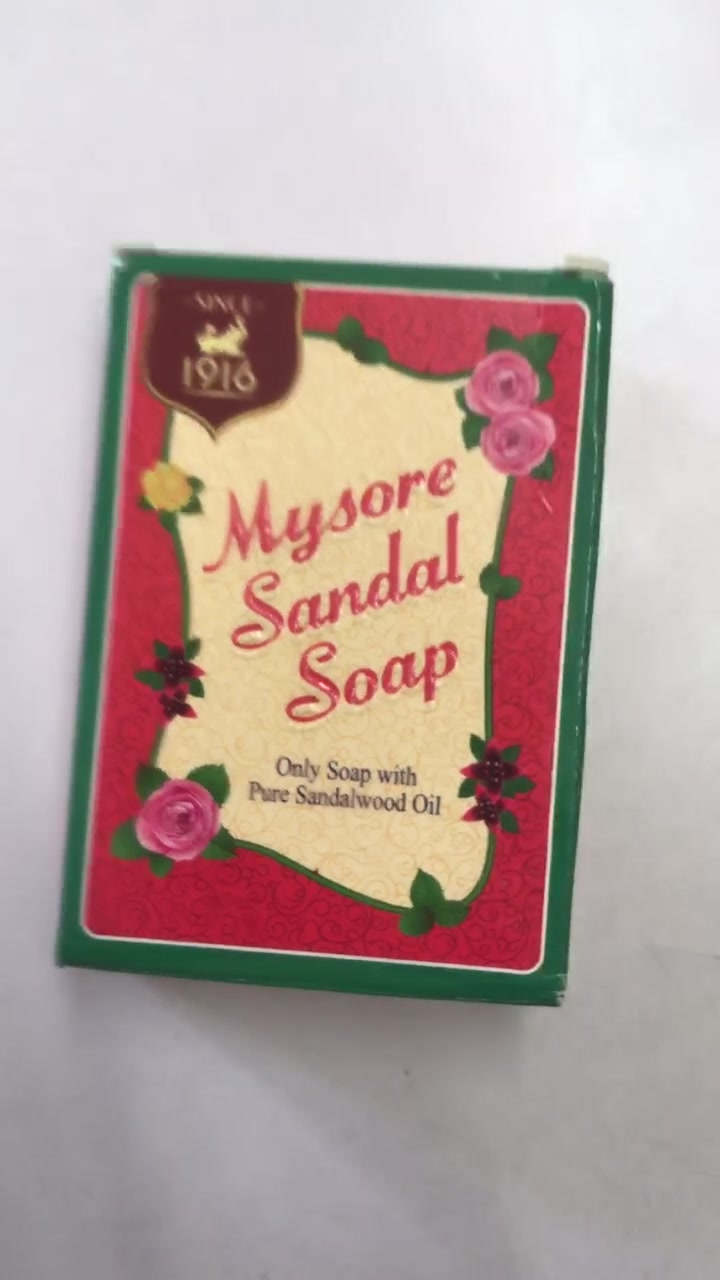mysore sandal soap: (63, 252, 578, 1002)
